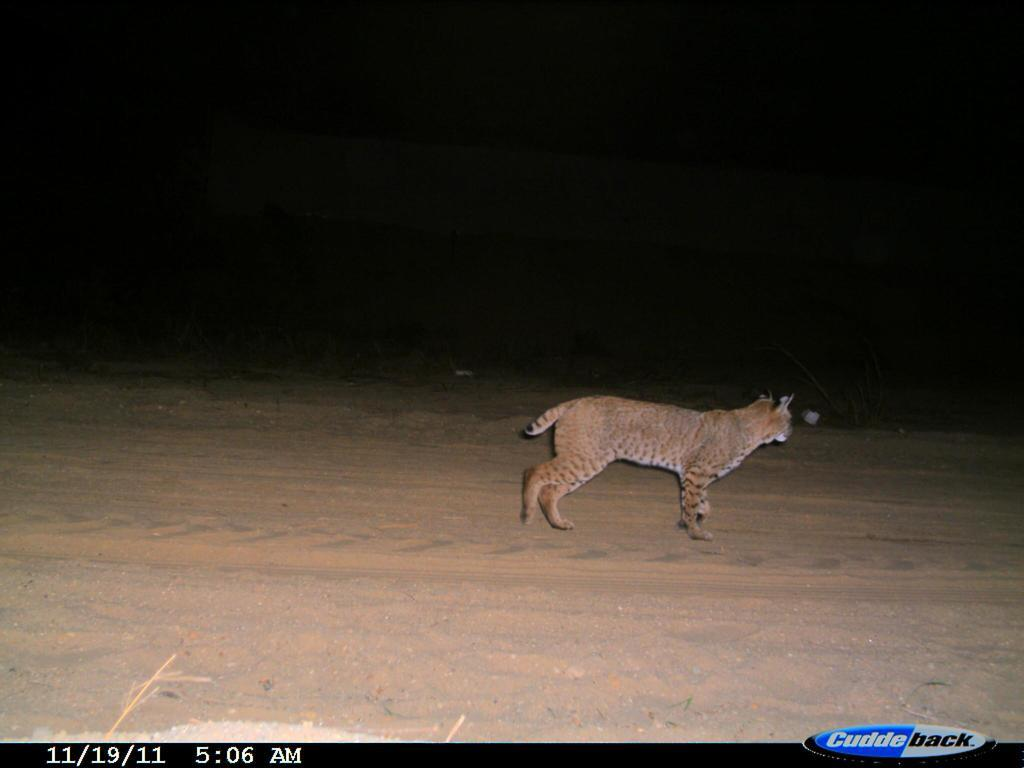bobcat: (510, 385, 809, 553)
